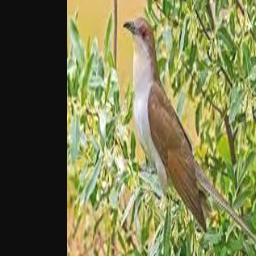Cuckoo: (122, 16, 256, 256)
